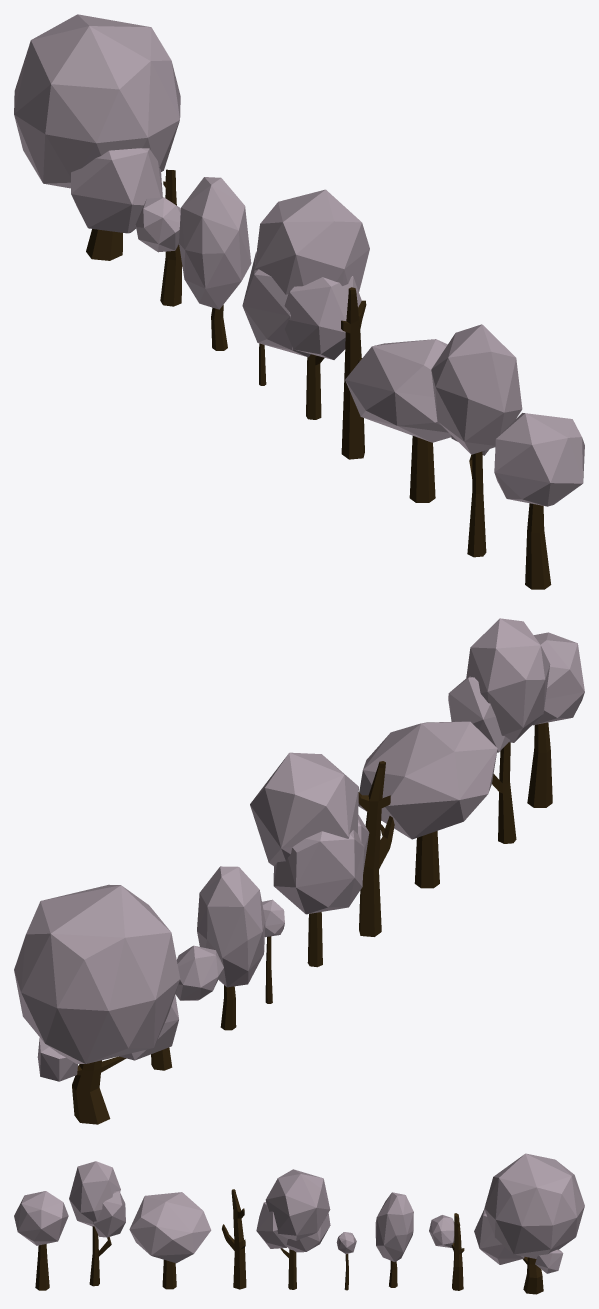
The model's file is winter_lowpoly_tree_pack.obj.
3 views of the same model, one above another, from view 1: azimuth 30°, elevation 25°; view 2: azimuth 150°, elevation 25°; view 3: azimuth 270°, elevation 25° (orthographic). The views are drawn at different scales.
Visible parts, largest first — view 1: Icosphere.007_Icosphere.010, Icosphere.003_Icosphere.018, Icosphere.001_Icosphere.015, Icosphere.002_Icosphere.016, Icosphere.005_Icosphere.020, Icosphere_Icosphere.014, Cylinder.003_Cylinder.009, Icosphere.006_Icosphere.021, Cylinder_Cylinder.006, Cylinder.002_Cylinder.008, Cylinder.001_Cylinder.007, Cylinder.007_Cylinder.014 (+2 smaller); view 2: Icosphere.007_Icosphere.010, Icosphere.003_Icosphere.018, Icosphere.002_Icosphere.016, Icosphere.001_Icosphere.015, Icosphere.005_Icosphere.020, Cylinder.003_Cylinder.009, Icosphere_Icosphere.014, Icosphere.006_Icosphere.021, Cylinder.008_Cylinder.005, Cylinder_Cylinder.006, Cylinder.001_Cylinder.007, Cylinder.002_Cylinder.008 (+2 smaller); view 3: Icosphere.007_Icosphere.010, Icosphere.003_Icosphere.018, Icosphere.002_Icosphere.016, Icosphere.001_Icosphere.015, Icosphere_Icosphere.014, Icosphere.005_Icosphere.020, Cylinder.003_Cylinder.009, Icosphere.006_Icosphere.021, Cylinder.007_Cylinder.014, Cylinder.008_Cylinder.005, Cylinder.001_Cylinder.007, Cylinder_Cylinder.006 (+4 smaller).
Boxes of the visible parts, x1,y1,x2,y2 form: Icosphere.007_Icosphere.010: (14,14,180,233); Icosphere.003_Icosphere.018: (242,189,369,359); Icosphere.001_Icosphere.015: (431,324,522,455); Icosphere.002_Icosphere.016: (345,339,451,442); Icosphere.005_Icosphere.020: (179,177,251,309); Icosphere_Icosphere.014: (494,413,584,506); Cylinder.003_Cylinder.009: (341,287,366,459); Icosphere.006_Icosphere.021: (135,197,180,252); Cylinder_Cylinder.006: (525,503,551,589); Cylinder.002_Cylinder.008: (409,436,435,502); Cylinder.001_Cylinder.007: (467,451,486,557); Cylinder.007_Cylinder.014: (160,169,182,306); Icosphere.007_Icosphere.010: (14,884,180,1081); Icosphere.003_Icosphere.018: (250,752,369,914); Icosphere.002_Icosphere.016: (358,721,497,839); Icosphere.001_Icosphere.015: (448,618,550,752); Icosphere.005_Icosphere.020: (197,866,265,987); Cylinder.003_Cylinder.009: (358,761,394,936); Icosphere_Icosphere.014: (533,632,584,725); Icosphere.006_Icosphere.021: (175,945,223,1000); Cylinder.008_Cylinder.005: (72,1056,126,1124); Cylinder_Cylinder.006: (527,722,552,807); Cylinder.001_Cylinder.007: (492,742,516,843); Cylinder.002_Cylinder.008: (414,831,439,888); Icosphere.007_Icosphere.010: (474,1153,584,1273); Icosphere.003_Icosphere.018: (256,1169,330,1252); Icosphere.002_Icosphere.016: (129,1192,211,1263); Icosphere.001_Icosphere.015: (69,1161,125,1237); Icosphere_Icosphere.014: (14,1191,68,1245); Icosphere.005_Icosphere.020: (375,1192,413,1261); Cylinder.003_Cylinder.009: (222,1189,246,1289); Icosphere.006_Icosphere.021: (429,1215,454,1247); Cylinder.007_Cylinder.014: (451,1213,464,1290); Cylinder.008_Cylinder.005: (523,1257,543,1294); Cylinder.001_Cylinder.007: (89,1226,111,1286); Cylinder_Cylinder.006: (35,1244,49,1290).
Size of the model in its own units: 10.08 by 16.27 by 63.23.
